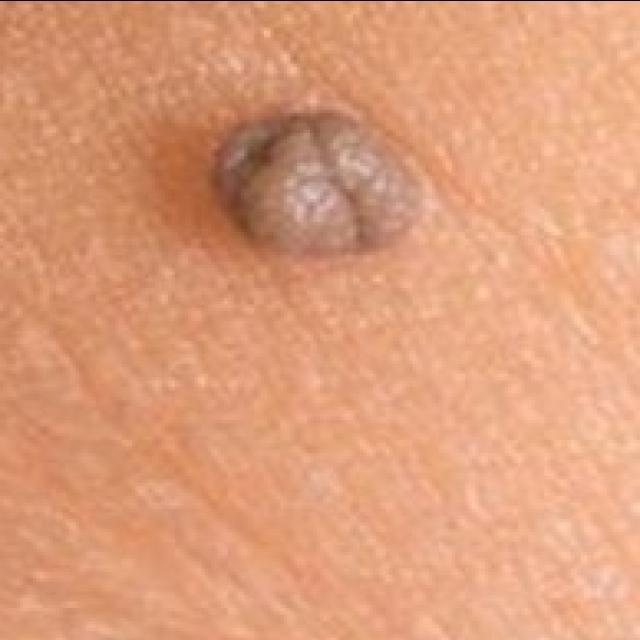wart: (198, 102, 419, 264)
